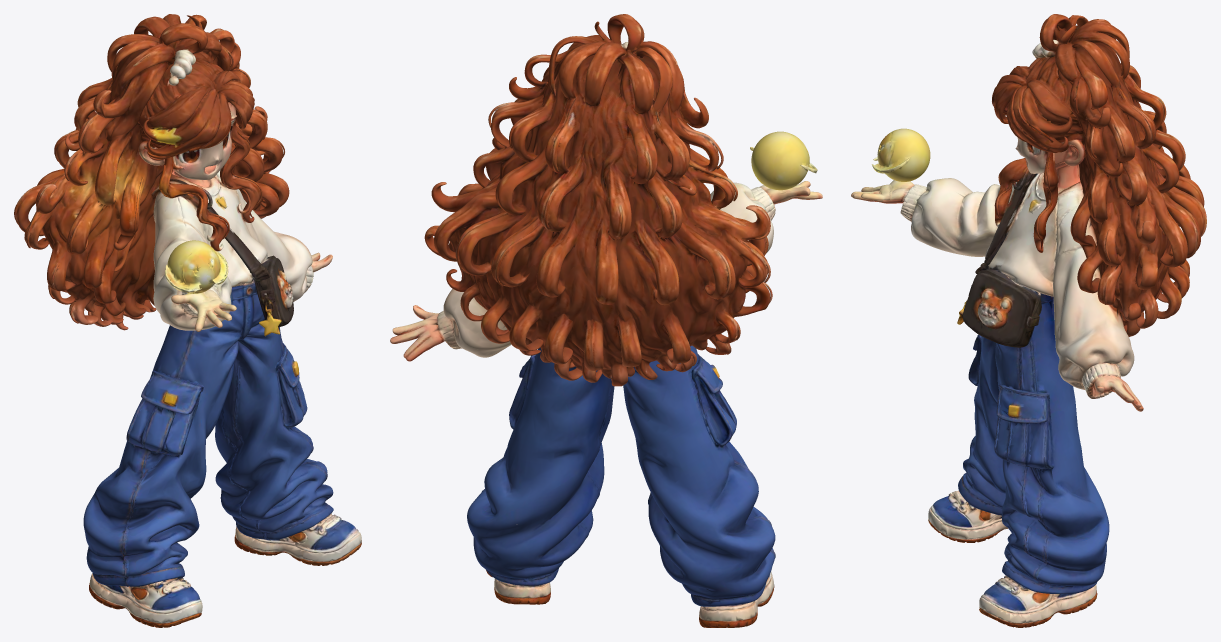
File: skill-anime-girl.glb
3 views of the same model, side by side, from view 1: azimuth 30°, elevation 25°; view 2: azimuth 150°, elevation 25°; view 3: azimuth 270°, elevation 25° (orthographic). The views are drawn at different scales.
Parts seen in each view (by area): view 1: tripo_node_ab185107-fb9a-4b9b-88ad-d277823ccdbe; view 2: tripo_node_ab185107-fb9a-4b9b-88ad-d277823ccdbe; view 3: tripo_node_ab185107-fb9a-4b9b-88ad-d277823ccdbe.
Part boxes in pixels (x1,y1,x2,y2): tripo_node_ab185107-fb9a-4b9b-88ad-d277823ccdbe: [14, 14, 361, 627]; tripo_node_ab185107-fb9a-4b9b-88ad-d277823ccdbe: [390, 14, 822, 627]; tripo_node_ab185107-fb9a-4b9b-88ad-d277823ccdbe: [851, 14, 1206, 627].
Bounding box in the file's own units: 0.5953 × 0.9789 × 0.5775.
1 material, 1 textured.
